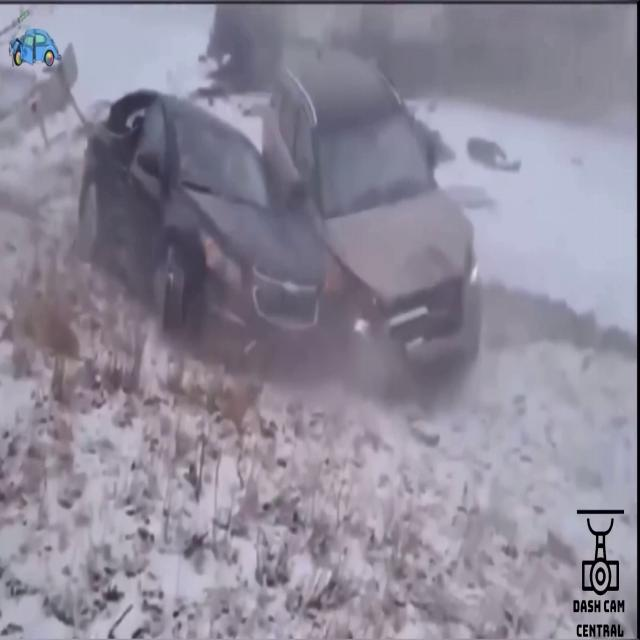accident: (74, 54, 487, 380)
